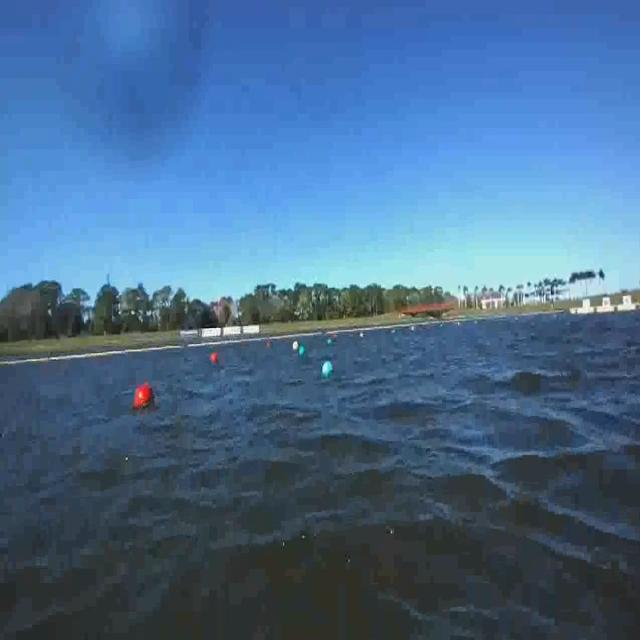green-buoy: (325, 358, 336, 377), (298, 346, 304, 357)
red-buoy: (134, 381, 156, 409), (211, 352, 218, 363)
